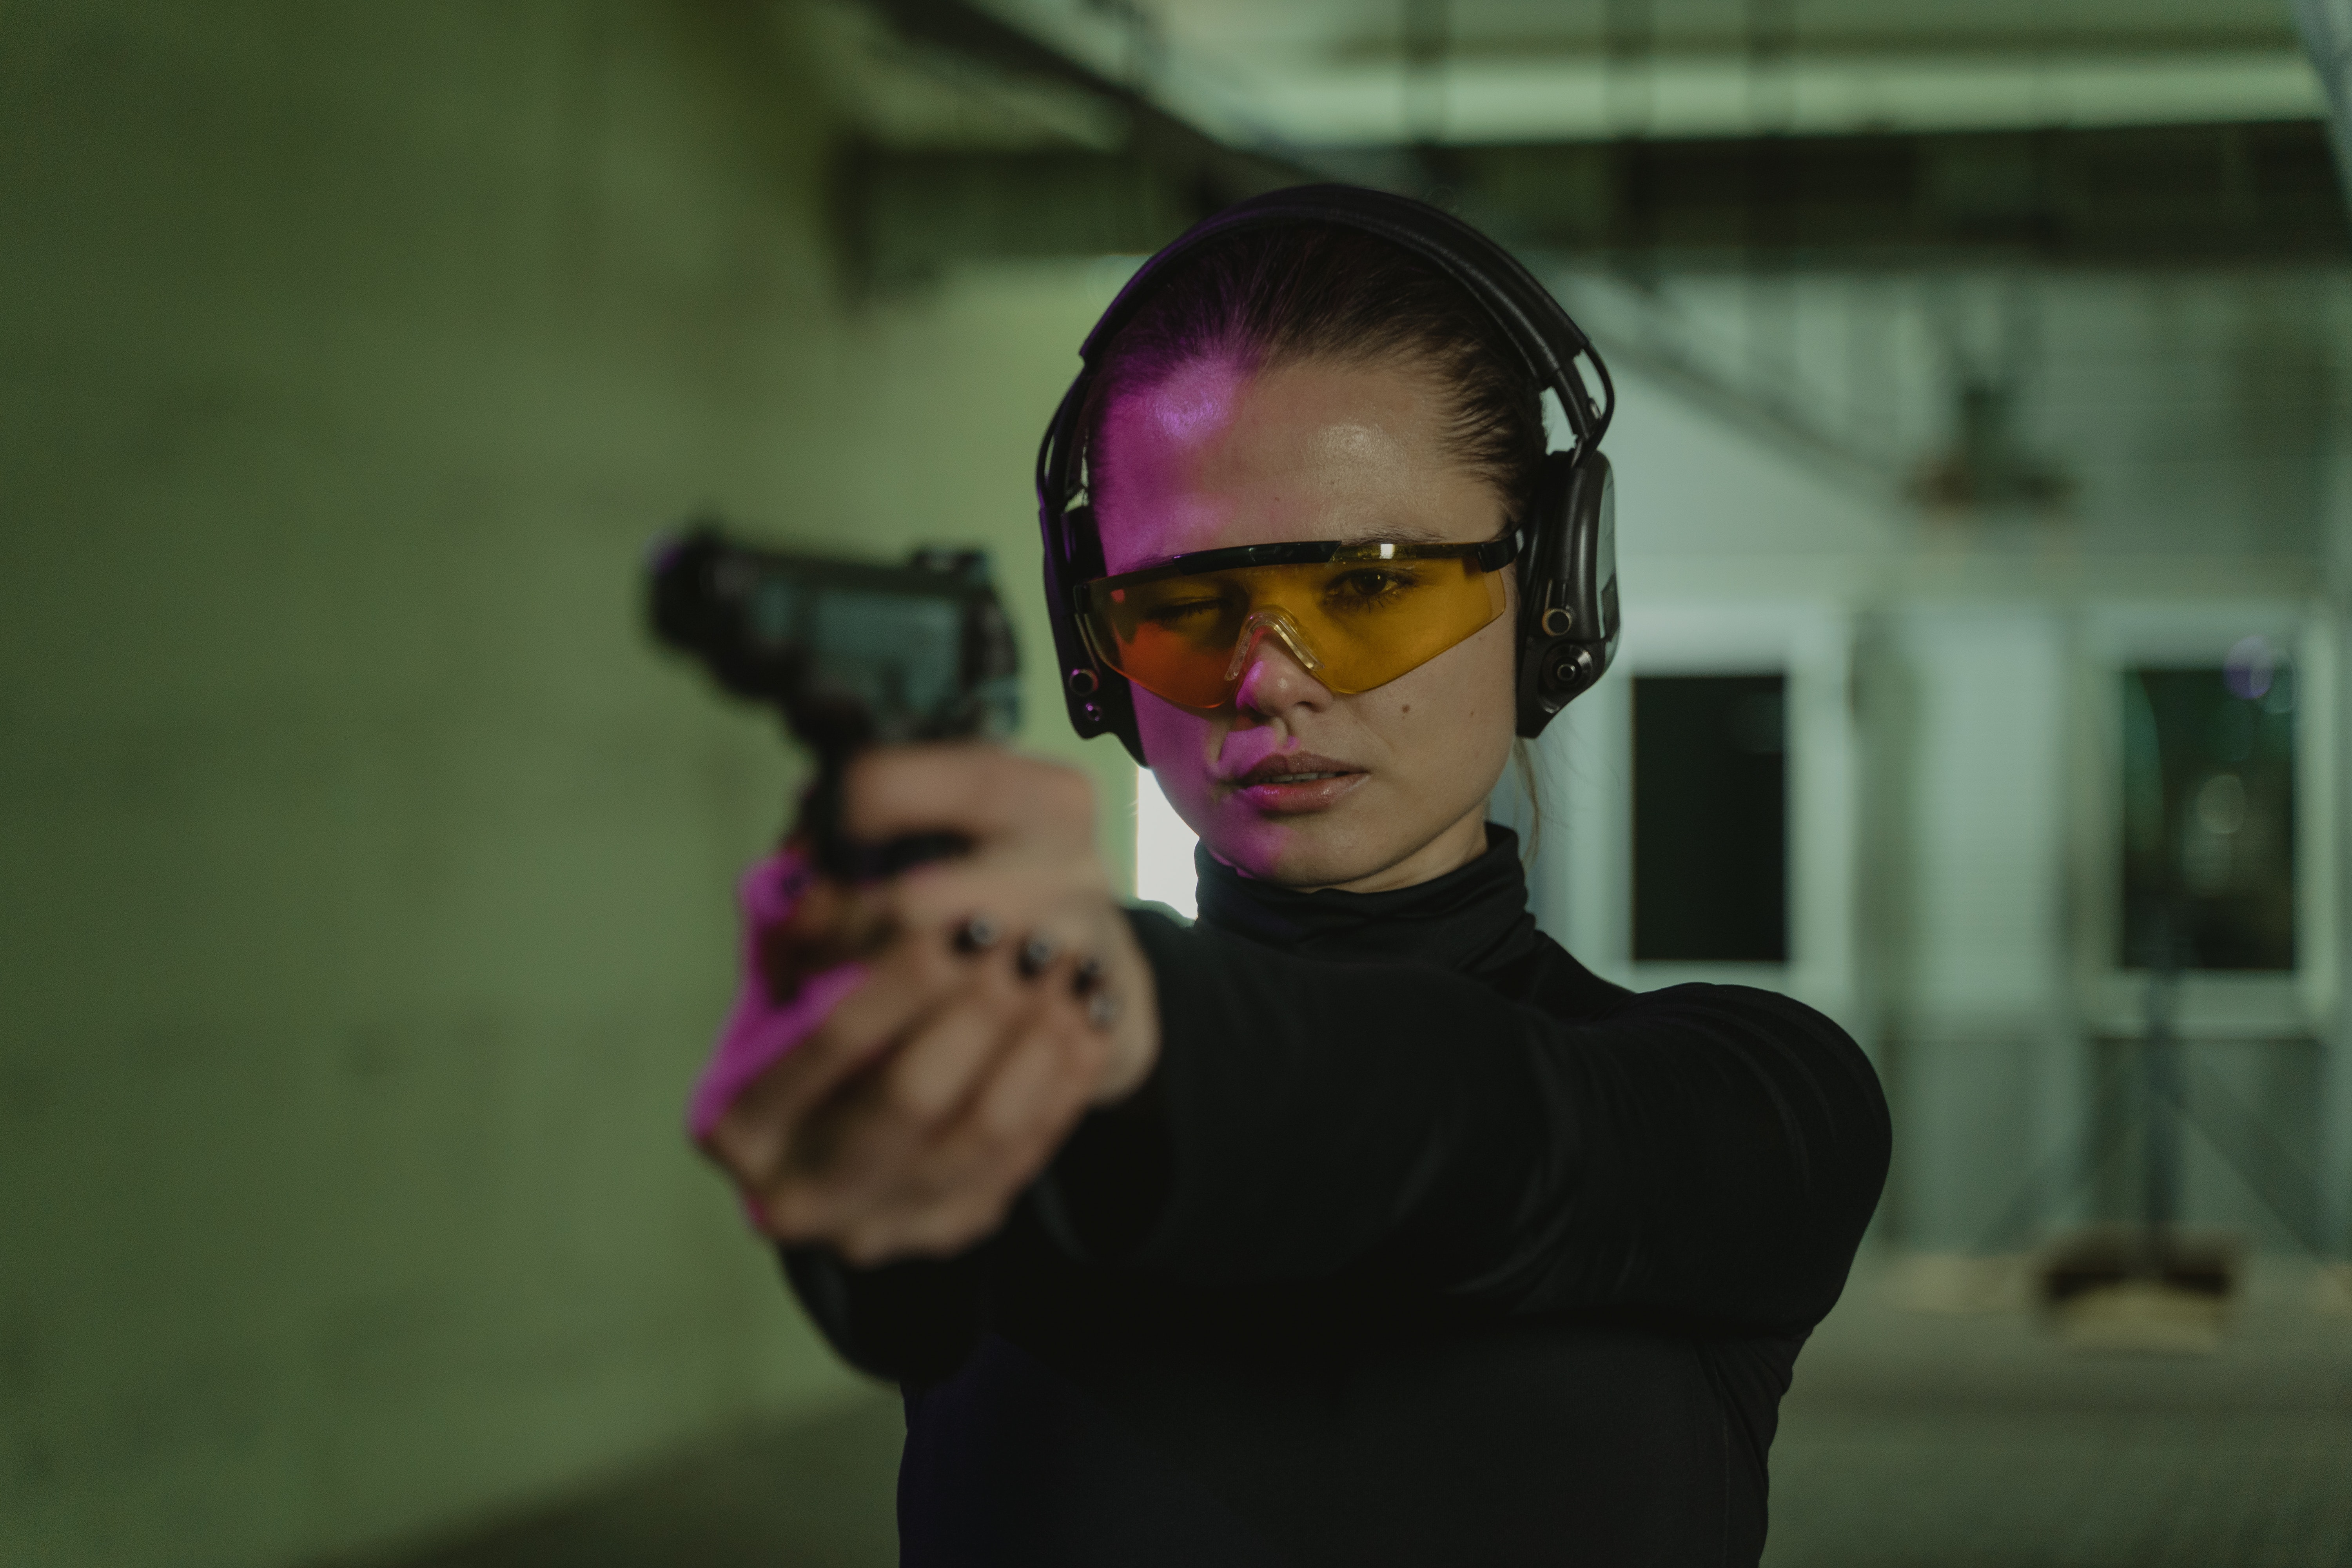gun: (628, 503, 1041, 814)
person: (686, 175, 1889, 1568)
